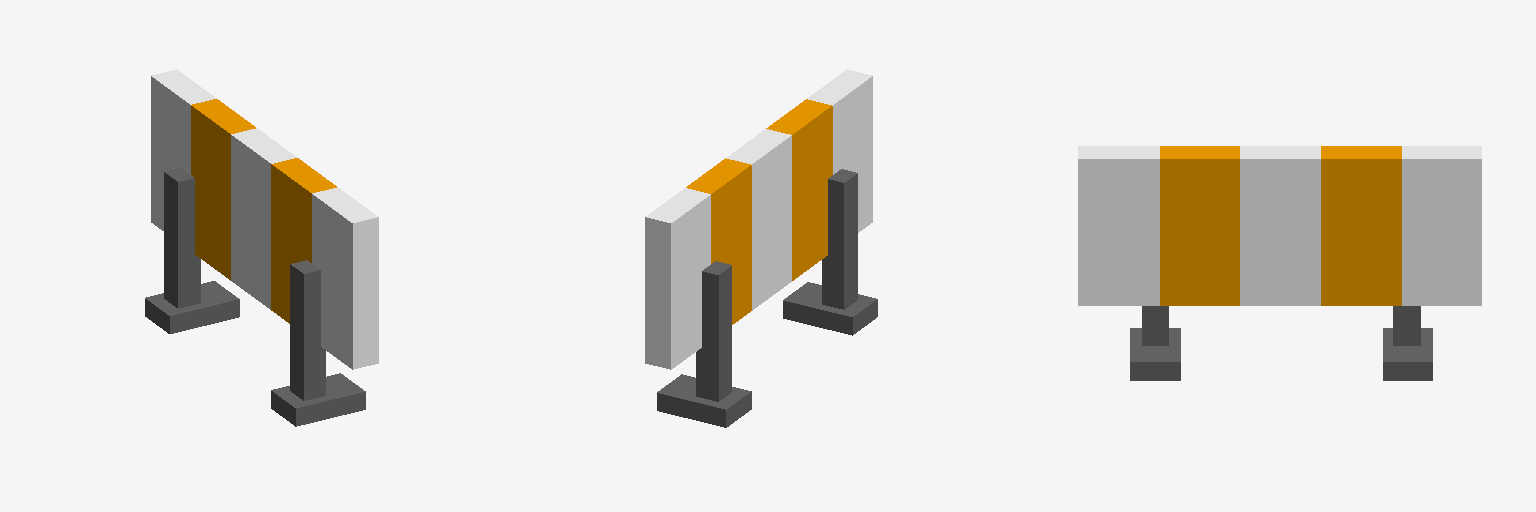
The picture shows the model from 3 angles: view 1: azimuth 30°, elevation 25°; view 2: azimuth 150°, elevation 25°; view 3: azimuth 270°, elevation 25°; orthographic projection.
Parts seen in each view (by area): view 1: WarningWall_Cube.002; view 2: WarningWall_Cube.002; view 3: WarningWall_Cube.002.
Part boxes in pixels (x1,y1,x2,y2): WarningWall_Cube.002: (145, 69, 378, 426); WarningWall_Cube.002: (645, 69, 877, 427); WarningWall_Cube.002: (1078, 146, 1481, 380).
Size of the model in its own units: 2 by 5.87 by 10.
1 materials, 1 textured.